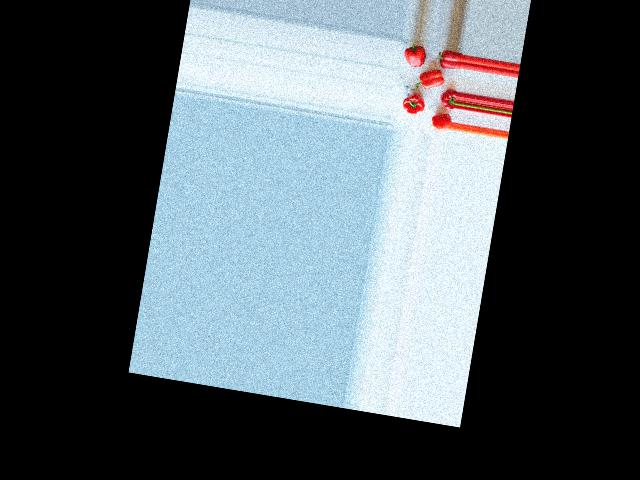bell_pepper: (437, 87, 457, 110)
